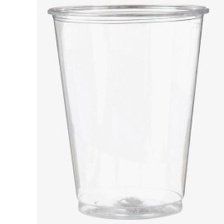glass: (44, 0, 213, 224)
